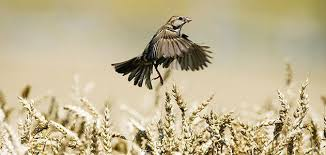hsparrow: (110, 13, 218, 93)
